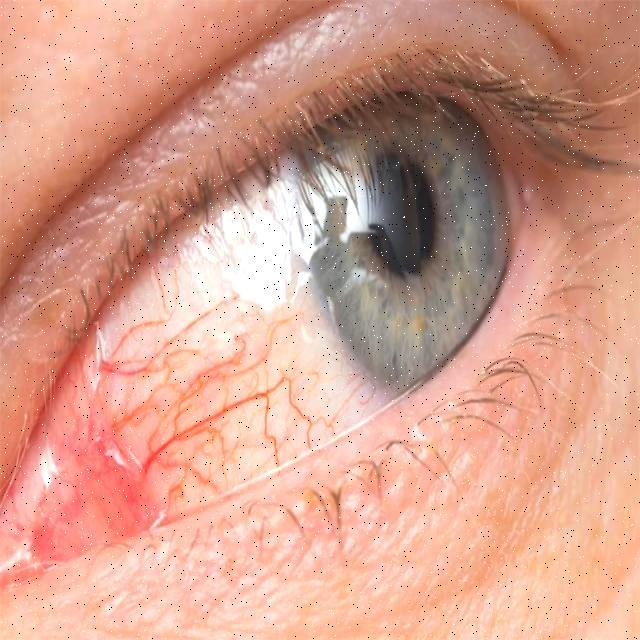Conjunctivitis: (8, 201, 480, 577)
